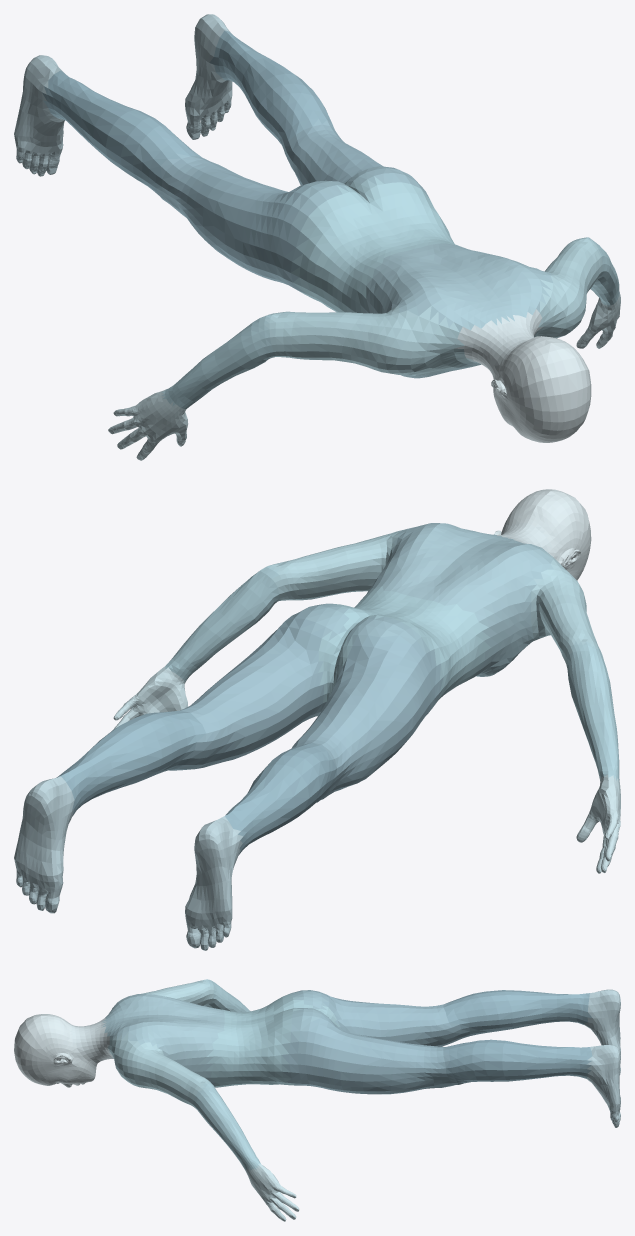
File: anny_astronaut_bone_segmented.glb
3 renders of one model, top to bottom at view 1: azimuth 30°, elevation 25°; view 2: azimuth 150°, elevation 25°; view 3: azimuth 270°, elevation 25°, orthographic. The views are drawn at different scales.
Visible parts, largest first — view 1: chest, abdomen, right_thigh, right_upper_arm, head, right_lower_leg, left_lower_leg, right_foot, left_upper_arm, right_forearm, left_thigh, left_foot (+5 smaller); view 2: abdomen, right_thigh, left_thigh, chest, left_lower_leg, right_lower_leg, left_foot, right_foot, left_upper_arm, left_forearm, right_forearm, head (+5 smaller); view 3: left_thigh, chest, abdomen, left_lower_leg, right_lower_leg, right_thigh, head, left_upper_arm, left_forearm, left_foot, right_foot, left_hand (+4 smaller).
Boxes of the visible parts, x1,y1,x2,y2 form: chest: [291, 176, 460, 313]; abdomen: [361, 243, 553, 378]; right_thigh: [156, 153, 305, 293]; right_upper_arm: [264, 305, 473, 375]; head: [491, 336, 591, 442]; right_lower_leg: [42, 70, 201, 195]; left_lower_leg: [209, 30, 332, 144]; right_foot: [14, 55, 64, 176]; left_upper_arm: [534, 238, 602, 338]; right_forearm: [161, 313, 278, 408]; left_thigh: [282, 119, 423, 188]; left_foot: [185, 14, 232, 139]; abdomen: [367, 523, 553, 677]; right_thigh: [291, 635, 443, 800]; left_thigh: [174, 611, 326, 770]; chest: [317, 586, 490, 716]; left_lower_leg: [56, 711, 206, 816]; right_lower_leg: [225, 742, 336, 855]; left_foot: [14, 776, 74, 913]; right_foot: [185, 816, 243, 950]; left_upper_arm: [269, 529, 405, 600]; left_forearm: [165, 565, 280, 682]; right_forearm: [566, 641, 619, 782]; head: [494, 489, 591, 580]; left_thigh: [281, 1013, 458, 1094]; chest: [205, 993, 339, 1087]; abdomen: [101, 994, 224, 1087]; left_lower_leg: [443, 1039, 592, 1084]; right_lower_leg: [443, 990, 591, 1039]; right_thigh: [312, 990, 469, 1046]; head: [14, 1014, 100, 1087]; left_upper_arm: [107, 1032, 209, 1106]; left_forearm: [192, 1081, 260, 1170]; left_foot: [586, 1045, 620, 1127]; right_foot: [584, 989, 620, 1074]; left_hand: [245, 1163, 299, 1221].
Bounding box in the file's own units: 1.04 × 0.4248 × 1.63.
